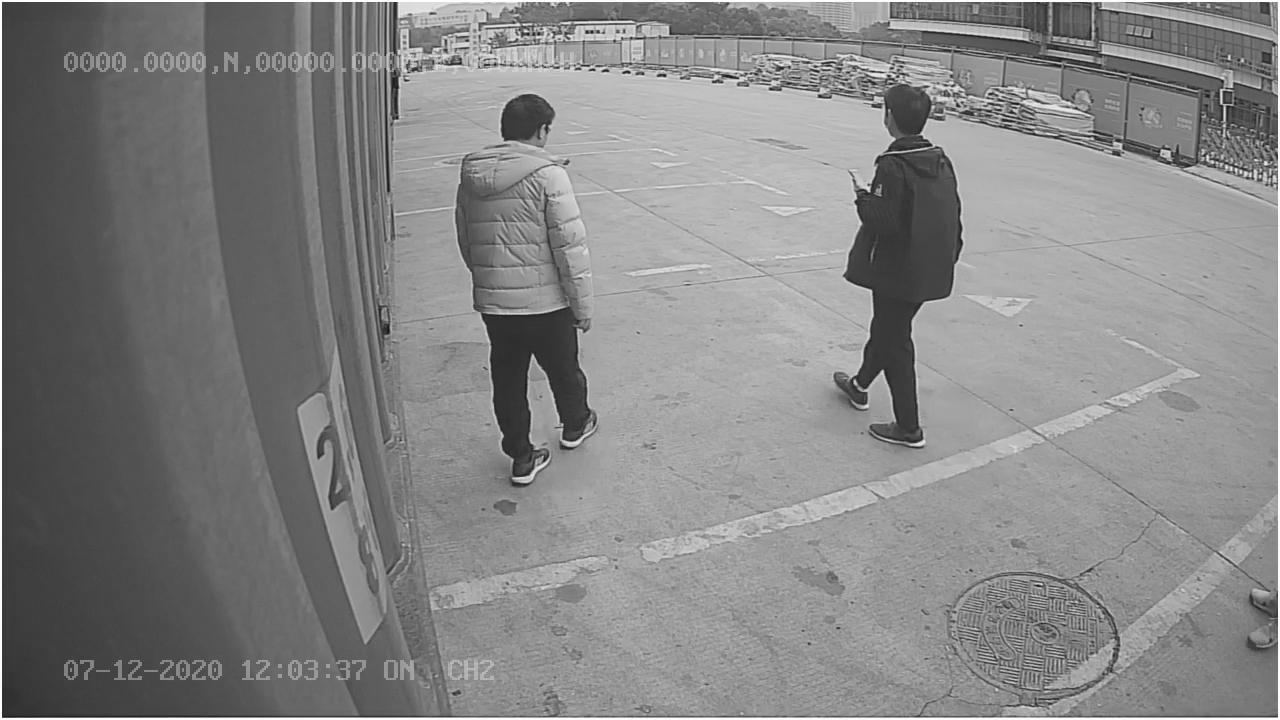person: (451, 90, 606, 487), (824, 81, 969, 447)
